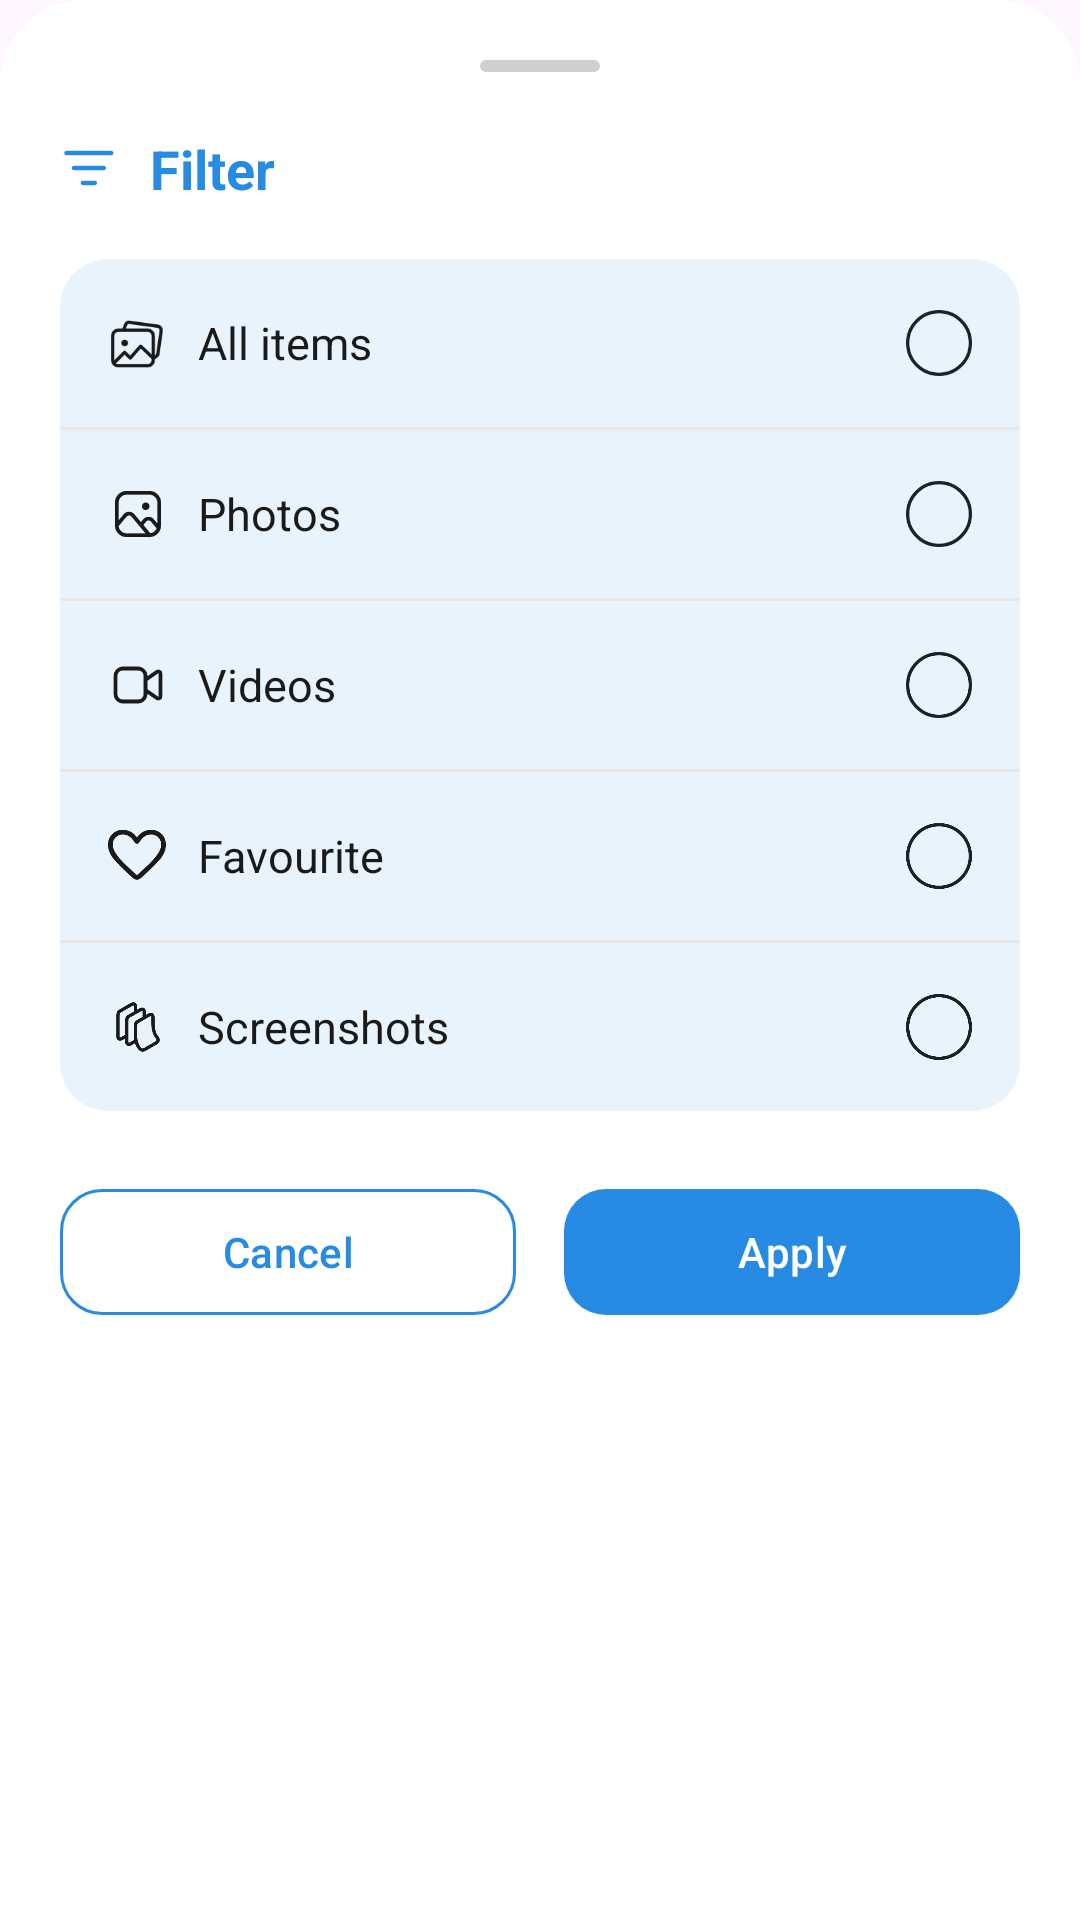

Named icons in this screenshot (1080x1920) and their bounding boxes, (x1, y1, x2, y2):
heart: (108, 830, 166, 880)
